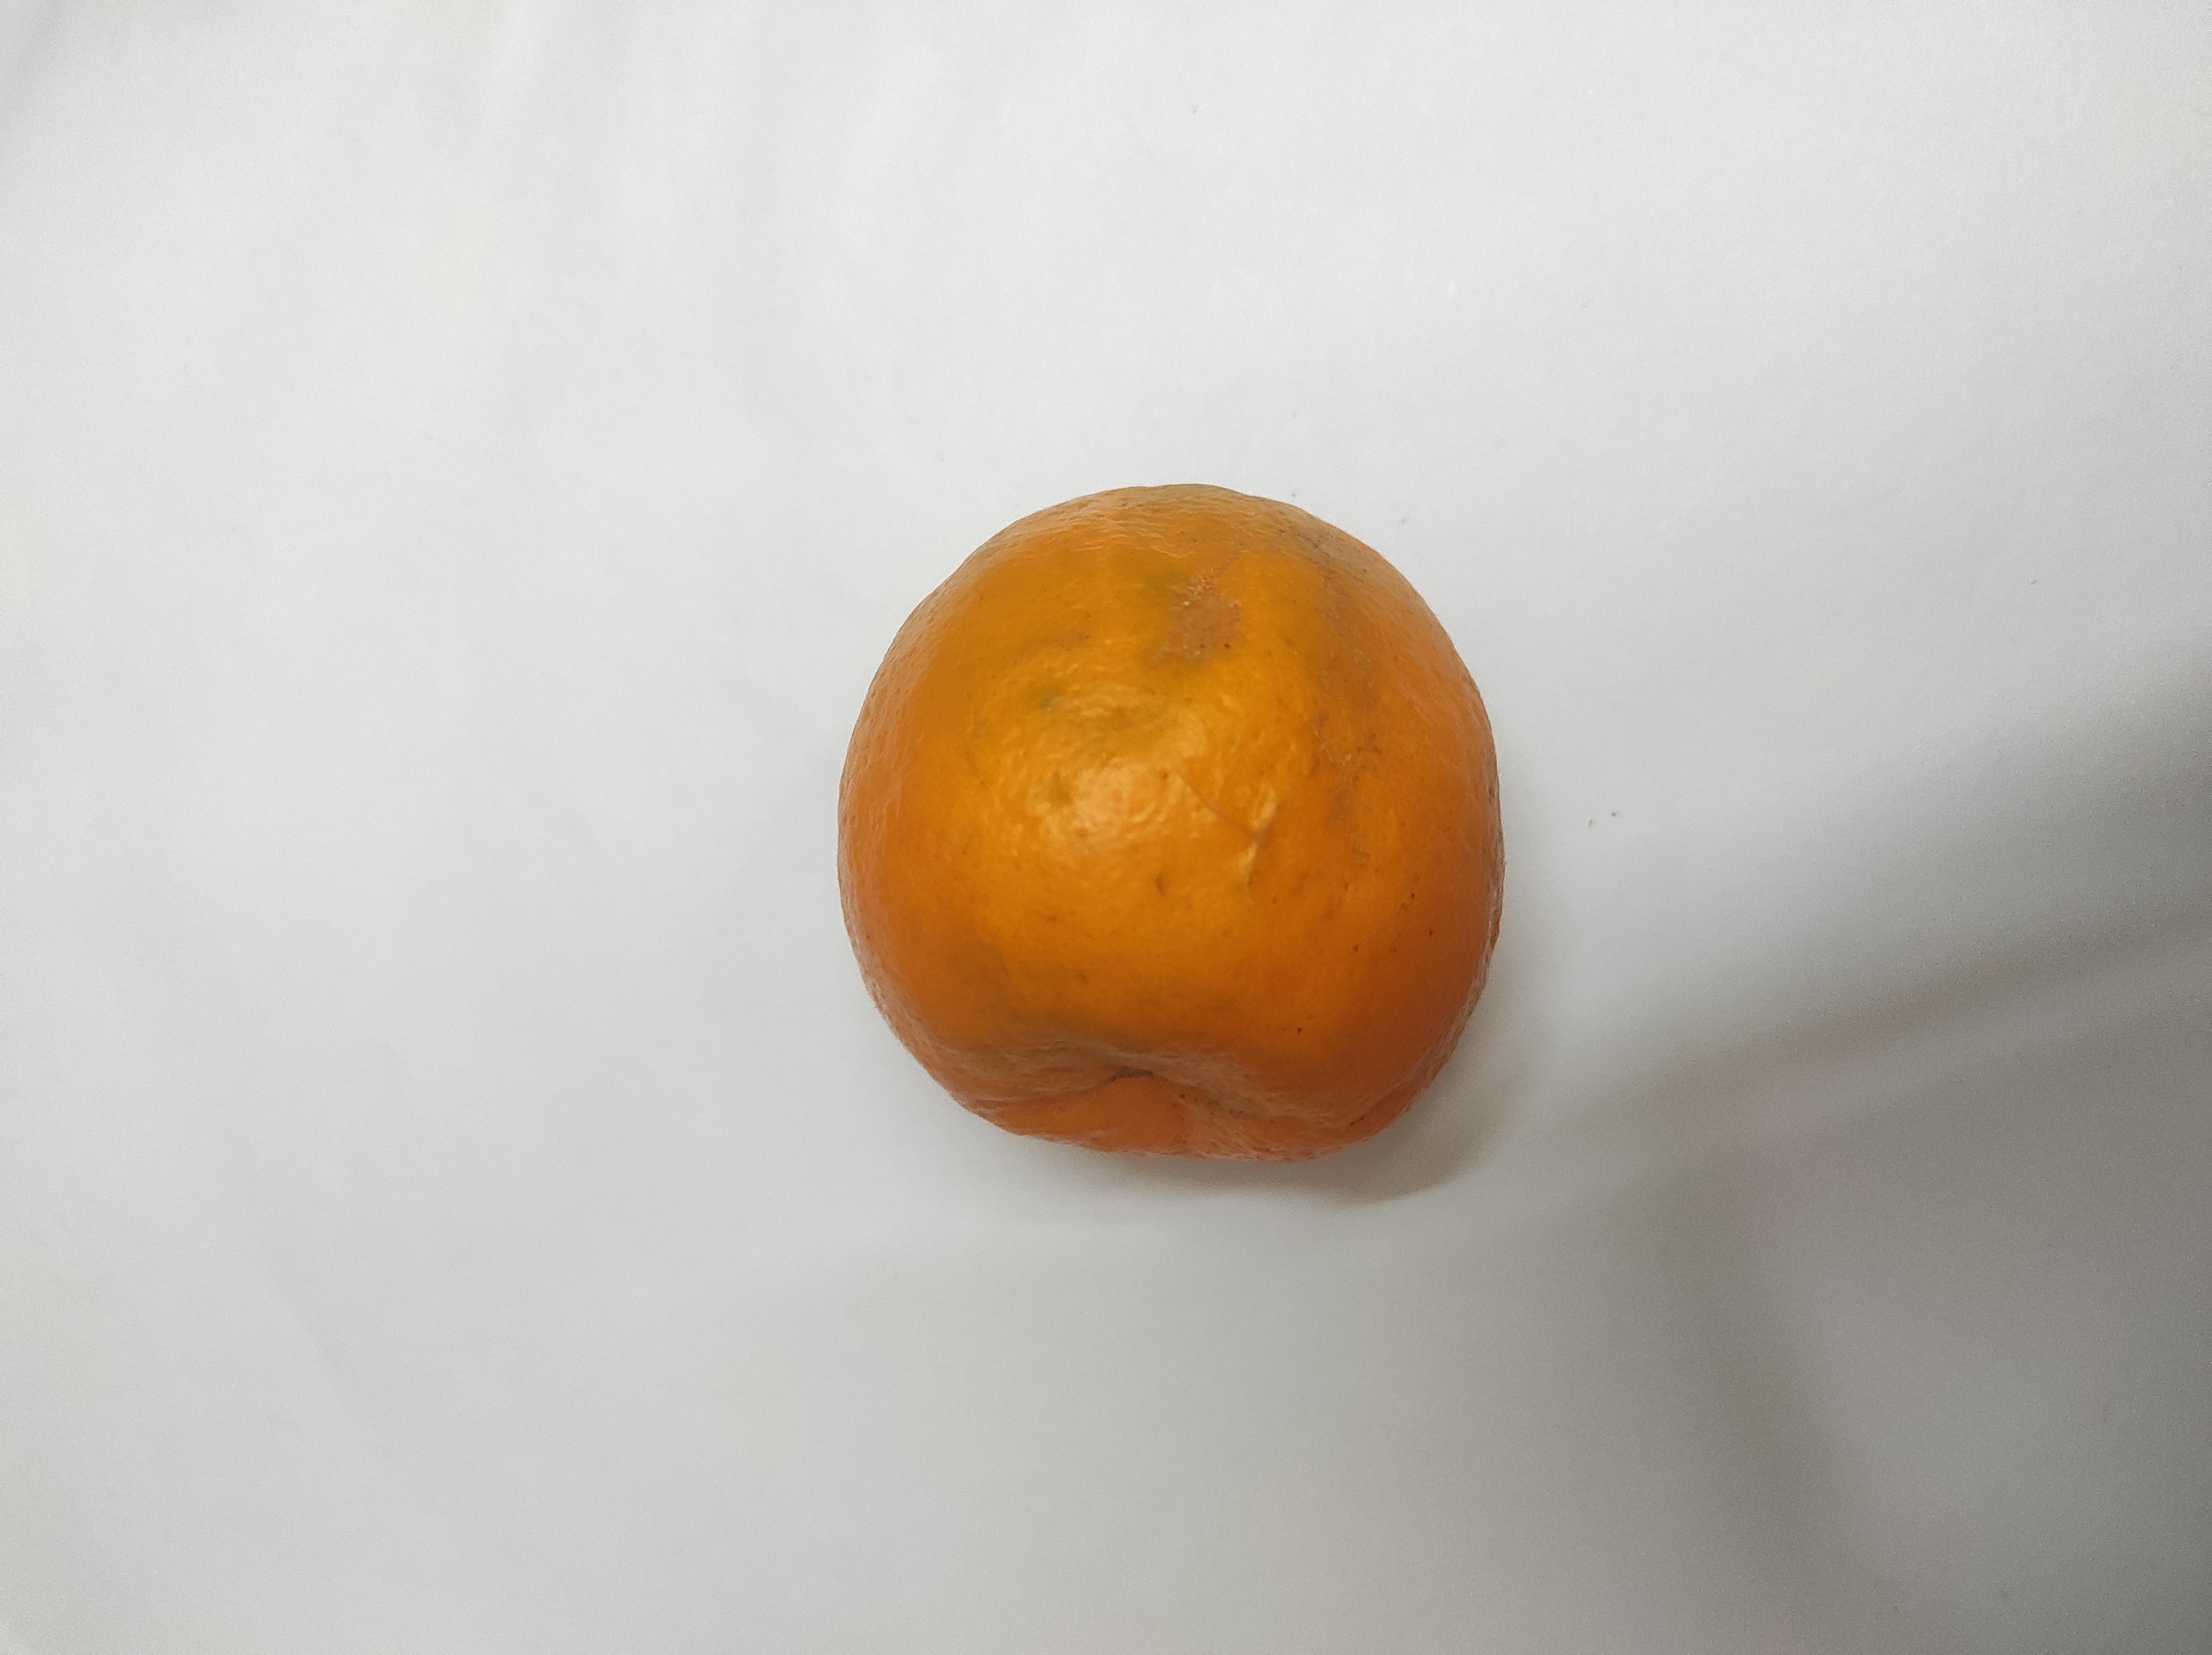Ripe: (824, 482, 1520, 1149)
